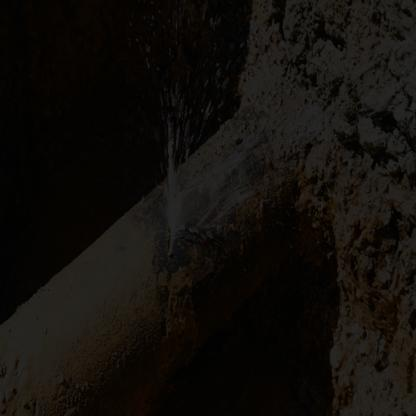burst: (142, 163, 205, 271)
